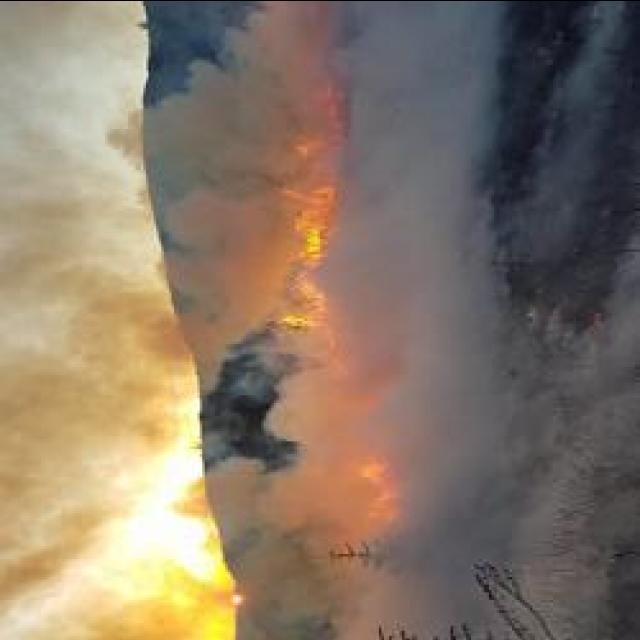smoke: (206, 330, 494, 541), (314, 0, 514, 302), (0, 284, 169, 592), (118, 0, 340, 216)
